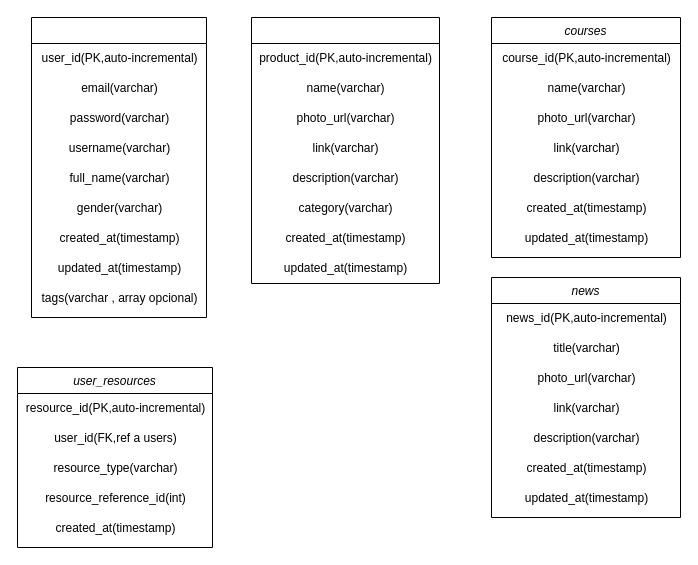
The diagram is 698 pixels wide and 565 high, and some of its shapes have lost their labels. Here are the shapes that lost their labels. From the top down, the box of each, then its label:
(30, 16, 206, 318): Users
(250, 16, 440, 284): Products
